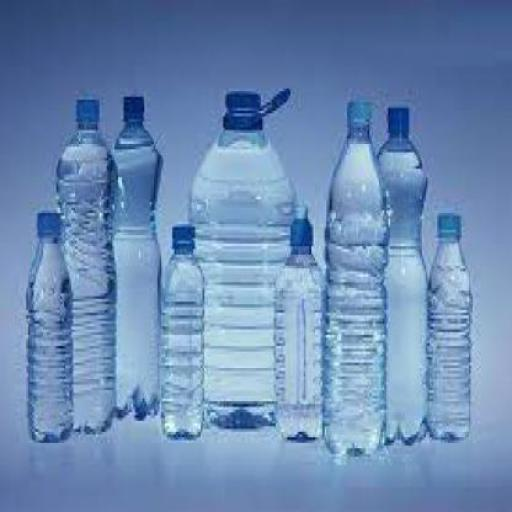plastic: (188, 89, 294, 428), (320, 96, 384, 454), (52, 94, 113, 434), (374, 105, 428, 445), (109, 93, 161, 421), (273, 196, 324, 440), (24, 214, 72, 442), (424, 210, 467, 437), (160, 224, 202, 437), (220, 85, 288, 130), (290, 197, 312, 249), (343, 94, 372, 121), (383, 106, 407, 138), (72, 94, 100, 121), (122, 91, 144, 124), (34, 211, 58, 235), (171, 222, 193, 248), (435, 211, 457, 235)
